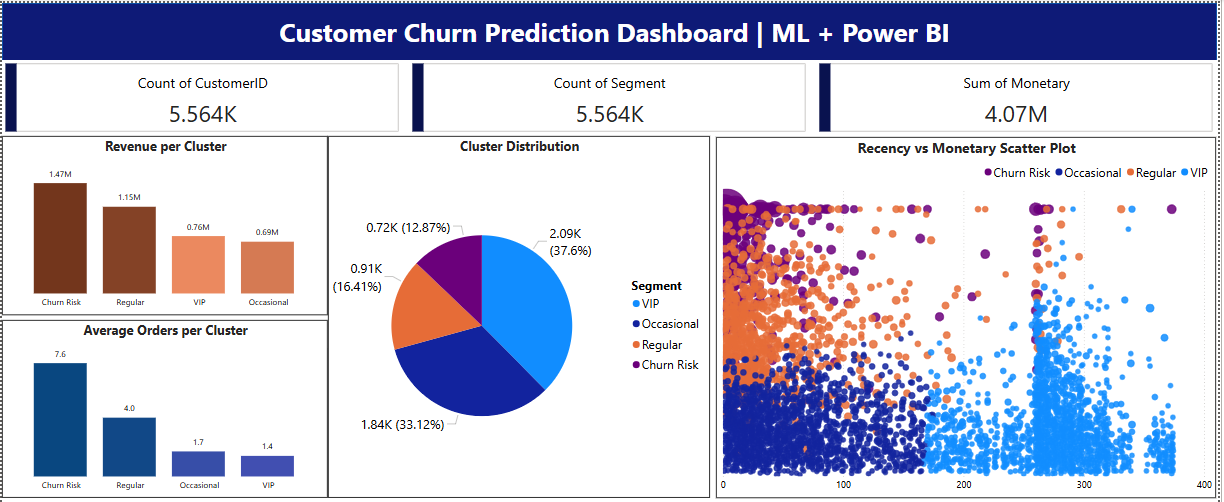

The dashboard page shown, as its layout file describes it:
{"tool":"powerbi","page":{"name":"Page 1","canvas":[1750,720],"ordinal":0},"visuals":[{"type":"shape","box":[0,0,1749.6,83.5],"z":0},{"type":"textbox","box":[378.2,11.3,1006.7,62.1],"z":1000},{"type":"cardVisual","fields":{"Data":["CountNonNull(rfm_clustered.CustomerID)","CountNonNull(rfm_clustered.Segment)","Sum(rfm_clustered.Monetary)"]},"box":[0,82.1,1749.6,108],"z":2000},{"type":"pieChart","title":"Cluster Distribution","fields":{"Category":["rfm_clustered.Segment"],"Y":["CountNonNull(rfm_clustered.CustomerID)"]},"box":[469.4,191.5,550.1,521.3],"z":3000},{"type":"columnChart","title":"Revenue per Cluster","fields":{"Category":["rfm_clustered.Segment"],"Y":["Sum(rfm_clustered.Monetary)"]},"box":[0,191.5,469.4,257.8],"z":4000},{"type":"columnChart","title":"Average Orders per Cluster","fields":{"Category":["rfm_clustered.Segment"],"Y":["Avg(rfm_clustered.Frequency)"]},"box":[0,456.5,469.4,256.3],"z":5000},{"type":"scatterChart","title":"Recency vs Monetary Scatter Plot","fields":{"X":["rfm_clustered.Recency"],"Y":["rfm_clustered.Monetary"],"Series":["rfm_clustered.Segment"],"Size":["Sum(rfm_clustered.Frequency)"]},"box":[1028.2,193,720,519.8],"z":6000}]}

Visuals, with their boxes in screenshot pixels (x1, y1, x2, y2), scaled from the page's 1750x720 canvas onto the 1224x502 screenshot:
shape: locate(0, 0, 1223, 58)
textbox: locate(265, 8, 969, 51)
cardVisual - CountNonNull(rfm_clustered.CustomerID) x CountNonNull(rfm_clustered.Segment): locate(0, 57, 1223, 133)
"Cluster Distribution" pieChart: locate(328, 134, 713, 497)
"Revenue per Cluster" columnChart: locate(0, 134, 328, 313)
"Average Orders per Cluster" columnChart: locate(0, 318, 328, 497)
"Recency vs Monetary Scatter Plot" scatterChart: locate(719, 135, 1223, 497)
